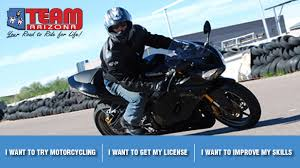helmet: (99, 5, 138, 45)
